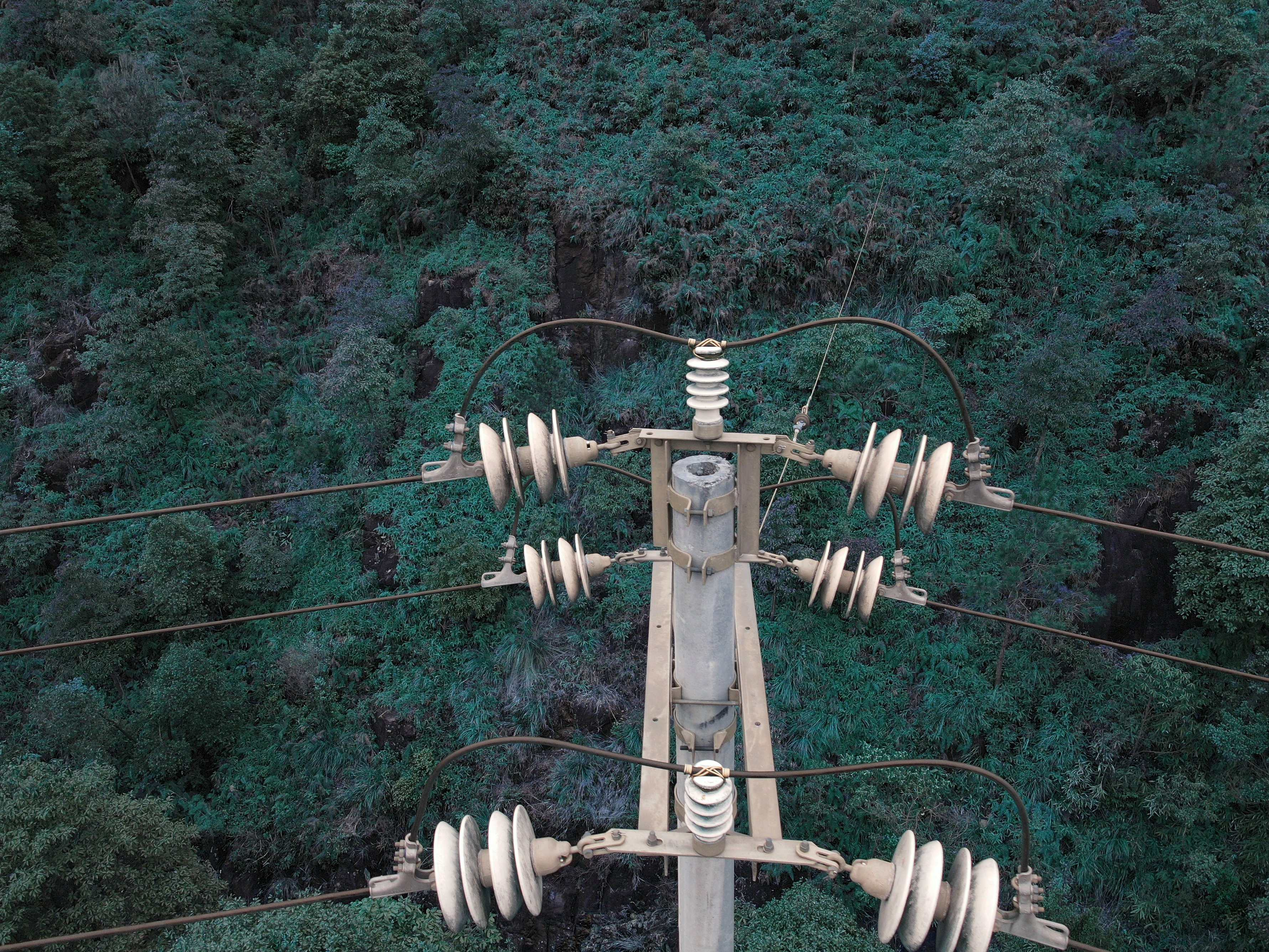severe_soiling_no_discharge_whole: (429, 803, 572, 931), (852, 834, 1005, 948), (823, 420, 964, 541), (474, 405, 599, 513), (791, 539, 890, 624), (515, 534, 611, 606), (680, 760, 738, 854), (680, 341, 734, 436)
